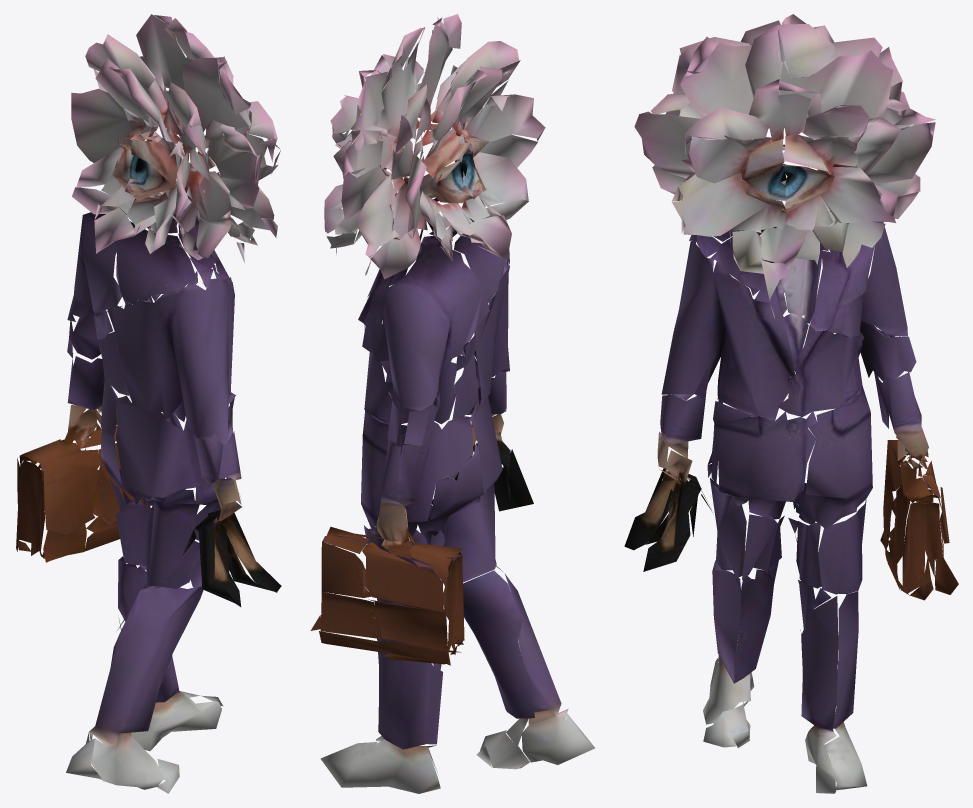
The model's file is cast_workgirl.glb.
3 renders of one model, left to right at view 1: azimuth 30°, elevation 25°; view 2: azimuth 150°, elevation 25°; view 3: azimuth 270°, elevation 25°, orthographic. The views are drawn at different scales.
Parts seen in each view (by area): view 1: tripo_node_4dcd1692-ba07-4971-a005-472ad7834de4; view 2: tripo_node_4dcd1692-ba07-4971-a005-472ad7834de4; view 3: tripo_node_4dcd1692-ba07-4971-a005-472ad7834de4.
Boxes of the visible parts, x1=… form: tripo_node_4dcd1692-ba07-4971-a005-472ad7834de4: x1=16, y1=14, x2=281, y2=793; tripo_node_4dcd1692-ba07-4971-a005-472ad7834de4: x1=310, y1=14, x2=594, y2=793; tripo_node_4dcd1692-ba07-4971-a005-472ad7834de4: x1=624, y1=14, x2=958, y2=793.
Size of the model in its own units: 0.3014 by 0.9935 by 0.4022.
1 material, 1 textured.
